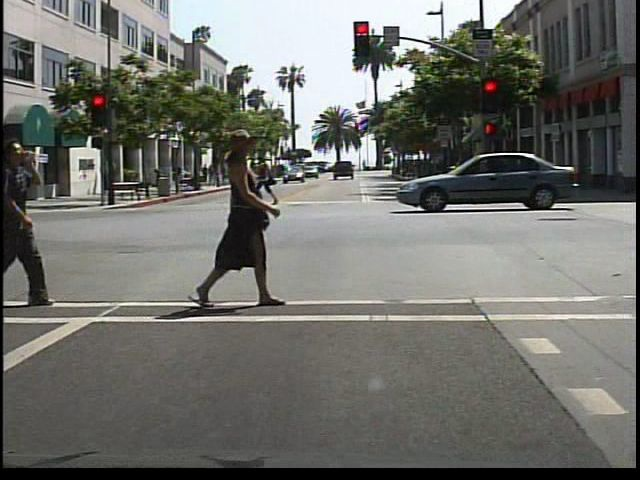person: (204, 131, 305, 315), (4, 137, 59, 311), (259, 155, 277, 208), (170, 158, 187, 196), (149, 166, 168, 191)
